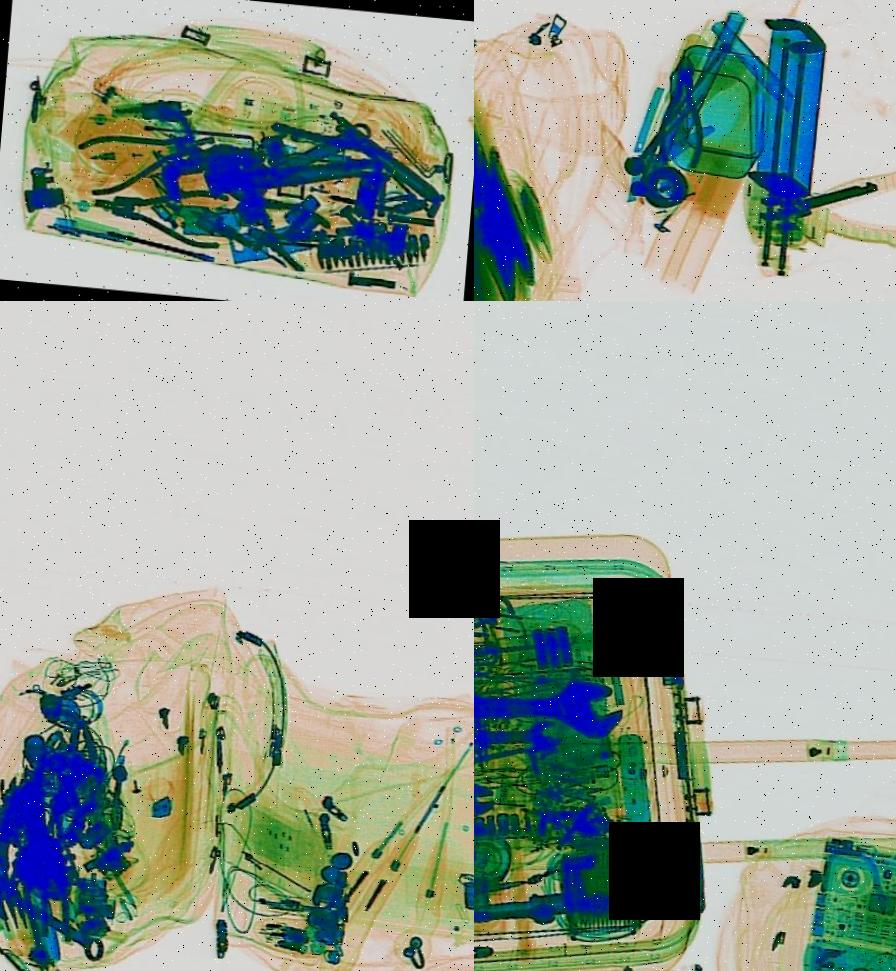Pliers: (50, 99, 242, 209), (201, 164, 370, 278), (88, 174, 236, 251), (657, 52, 711, 168), (474, 550, 513, 680)
Wrench: (211, 102, 386, 216), (474, 654, 629, 752), (0, 854, 117, 967), (474, 699, 564, 776), (474, 756, 504, 815)
